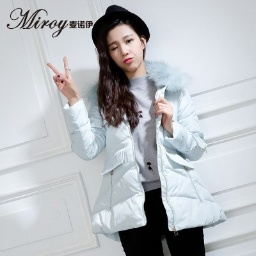face: (90, 19, 149, 91)
